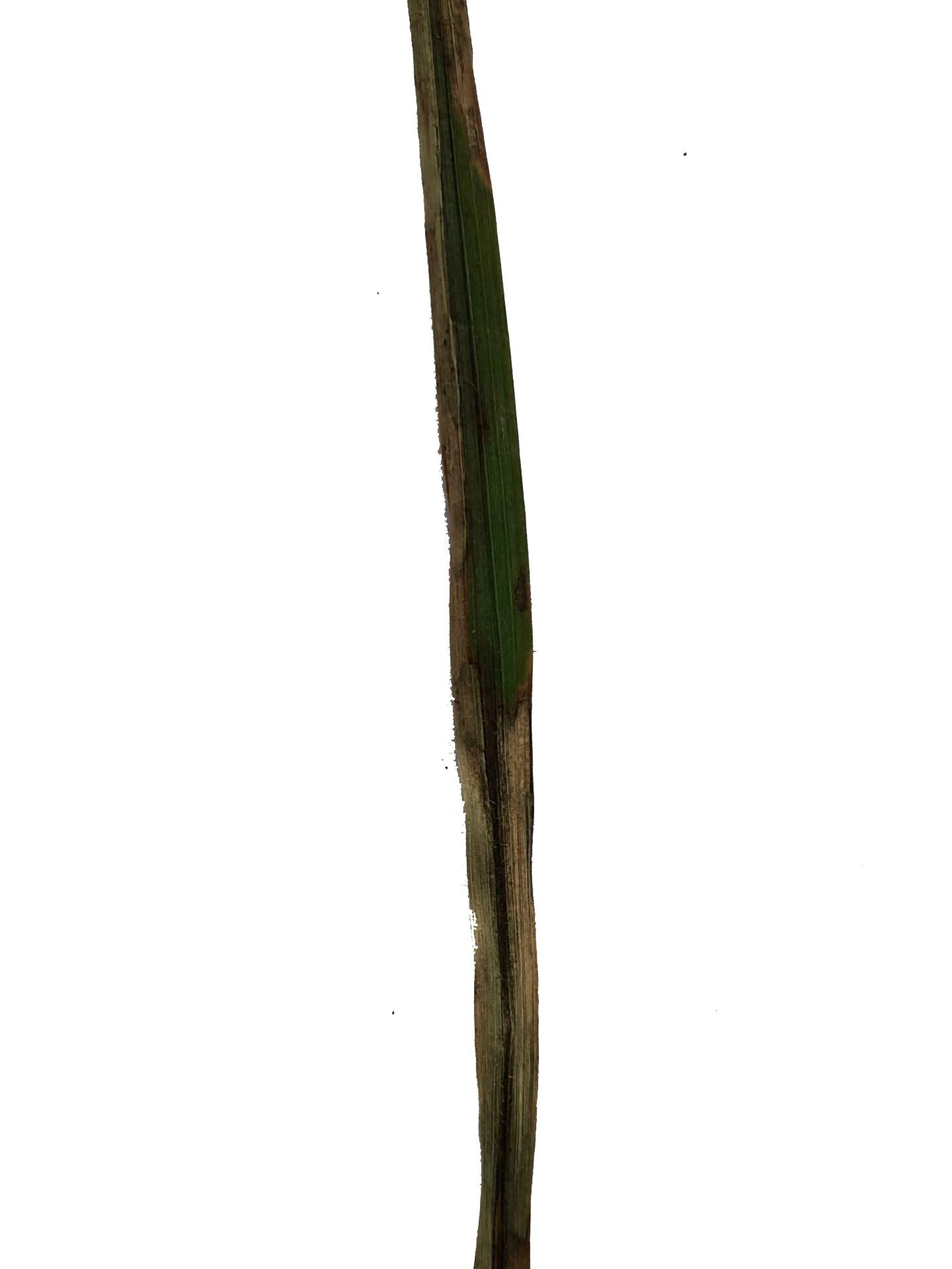Blight: (473, 671, 545, 1256), (407, 0, 496, 291)
